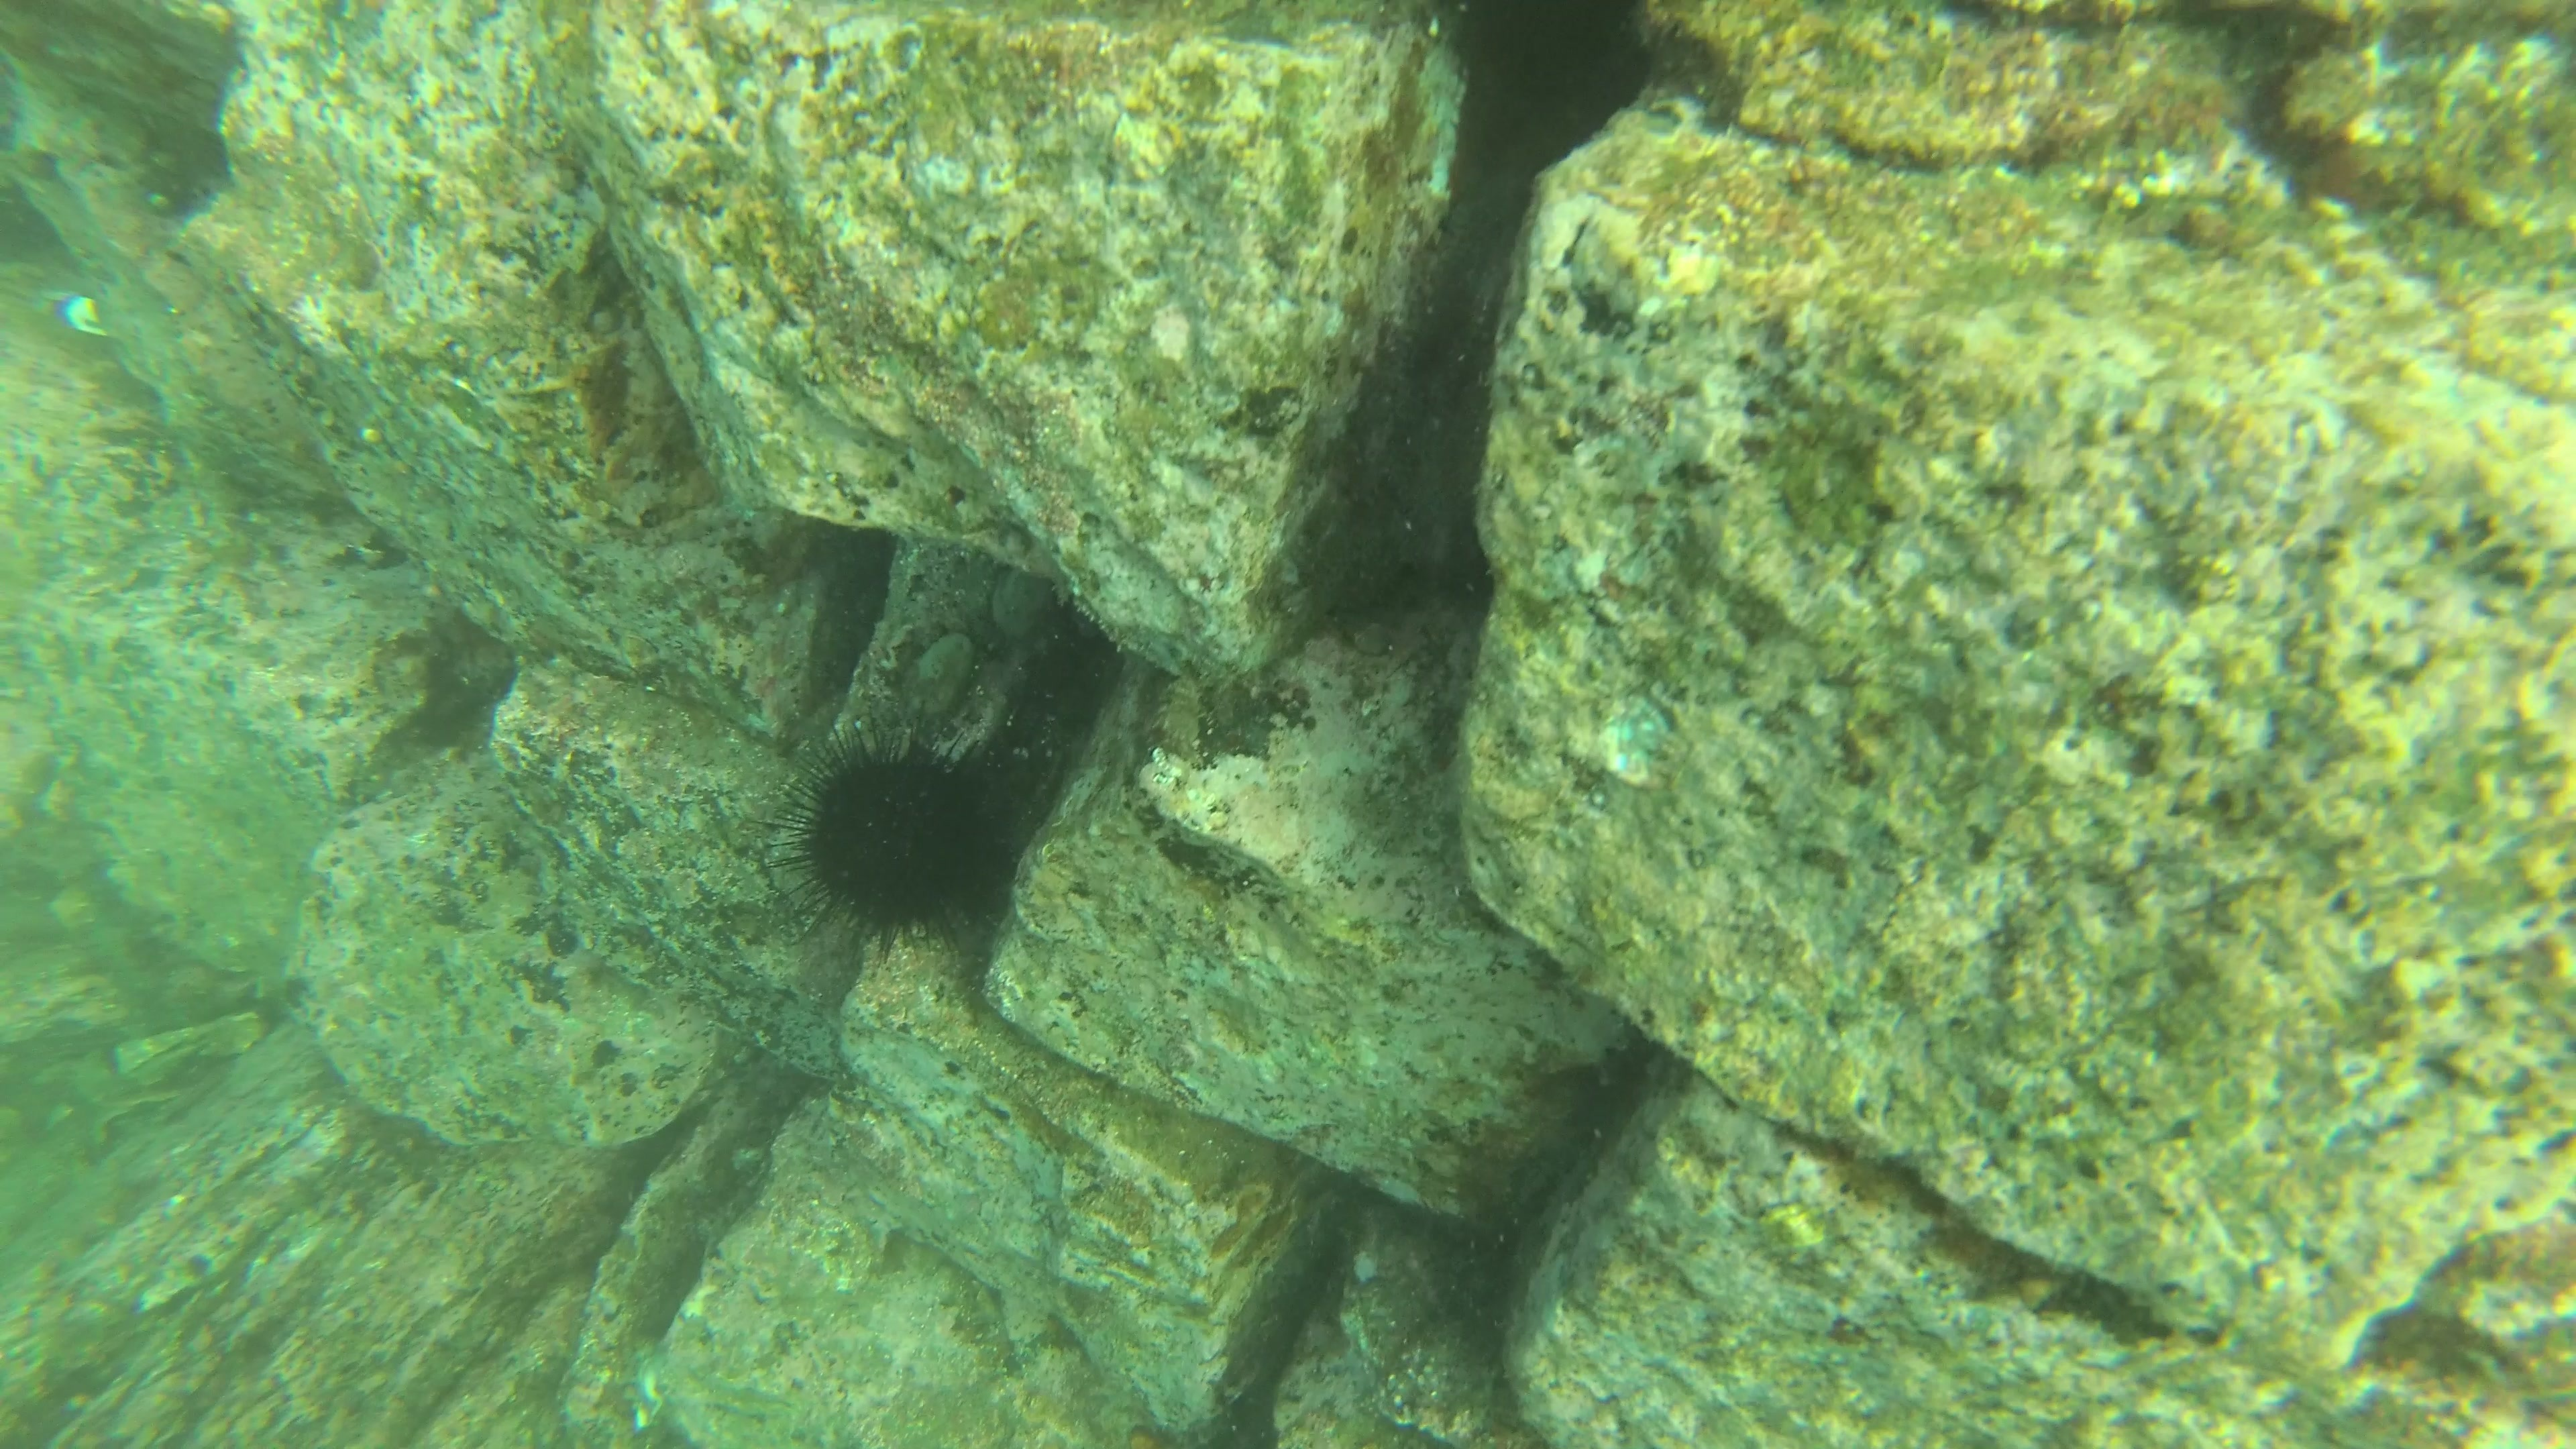echinus: (757, 720, 1014, 954)
